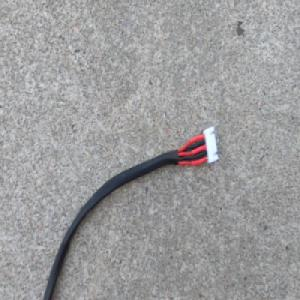Wire: (41, 121, 220, 300)
